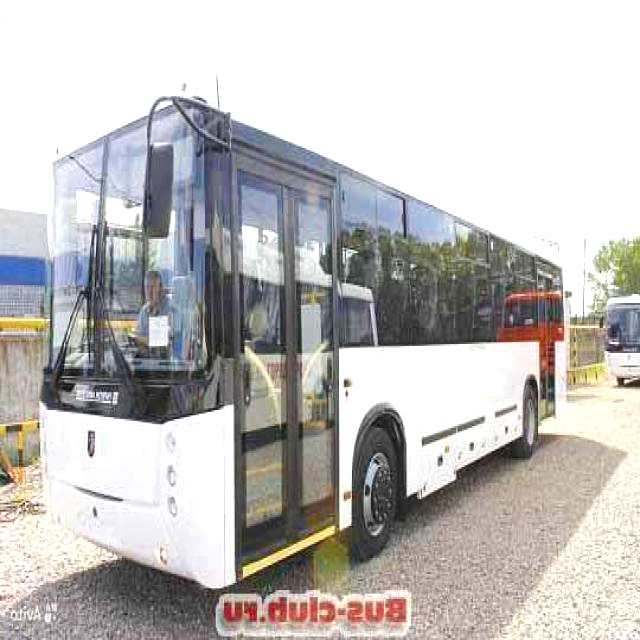bus: (21, 53, 583, 615), (600, 254, 640, 404)
